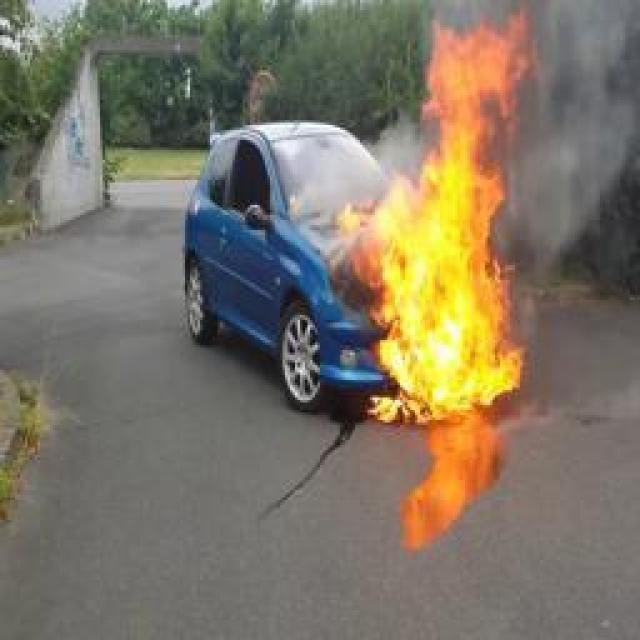Fire: (342, 0, 536, 420)
Smoke: (532, 8, 636, 227)
